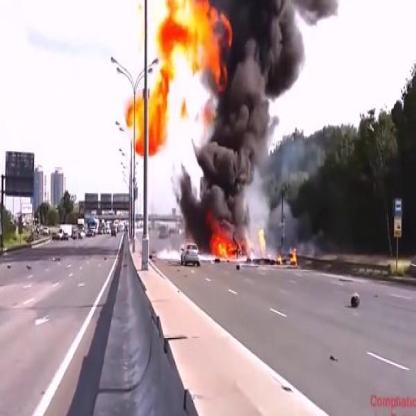fire: (126, 0, 236, 157), (208, 212, 245, 261), (276, 249, 300, 267), (258, 224, 270, 258)
